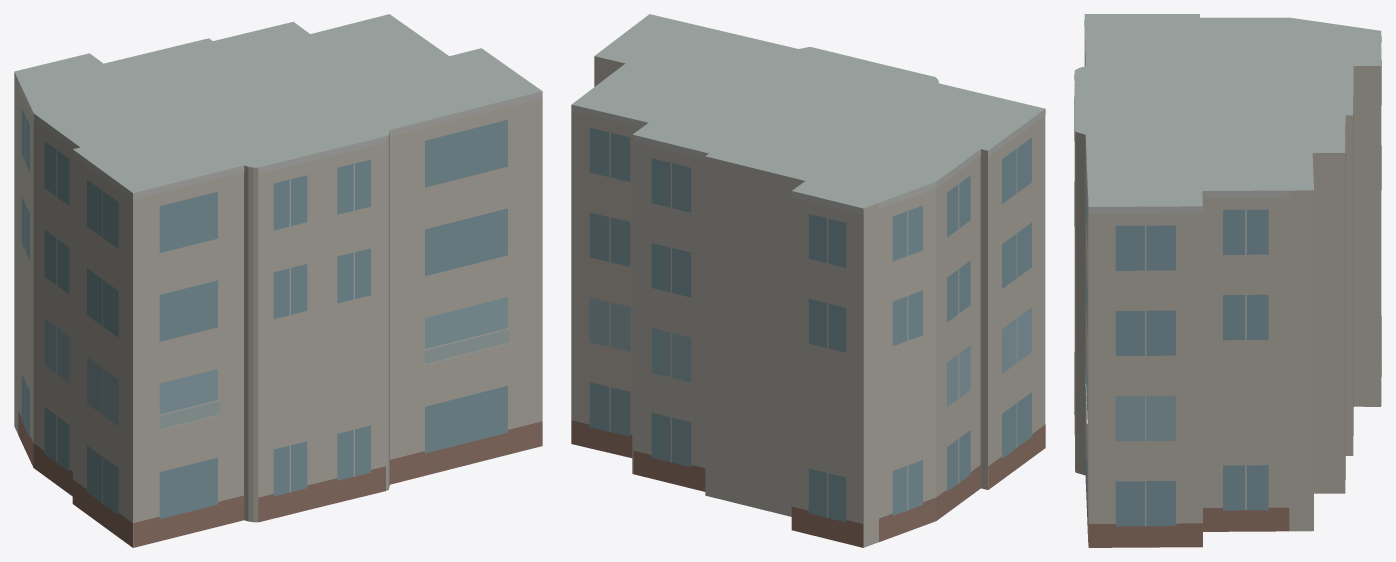
File: survey-upis-32708269.glb
3 renders of one model, left to right at view 1: azimuth 30°, elevation 25°; view 2: azimuth 150°, elevation 25°; view 3: azimuth 270°, elevation 25°, orthographic. The views are drawn at different scales.
Visible parts, largest first — view 1: survey-upis-32708269.tmp; view 2: survey-upis-32708269.tmp; view 3: survey-upis-32708269.tmp.
Boxes of the visible parts, x1,y1,x2,y2 form: survey-upis-32708269.tmp: [14, 14, 542, 547]; survey-upis-32708269.tmp: [571, 14, 1045, 547]; survey-upis-32708269.tmp: [1074, 14, 1381, 547].
Size of the model in its own units: 15.44 by 12.7 by 10.37.
